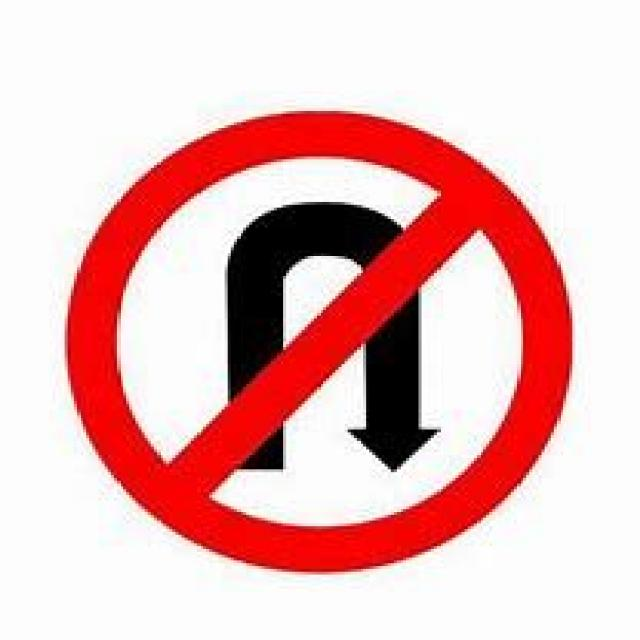U_TURN_PROHIBITED: (59, 102, 578, 574)
